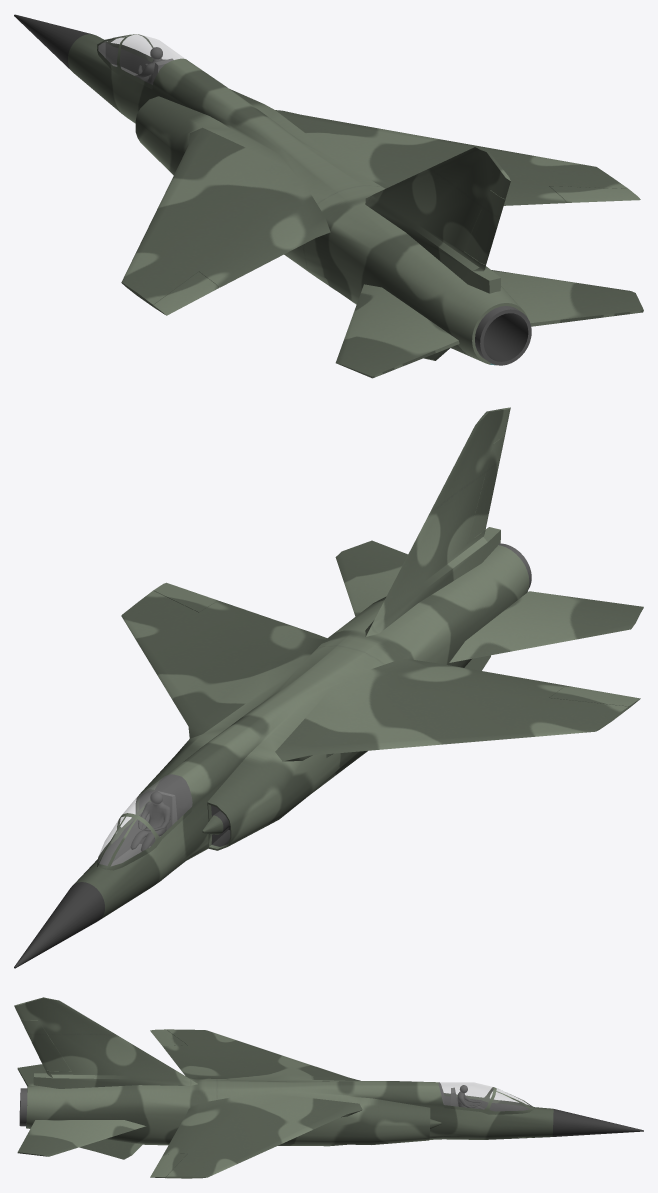
The model's file is MirageF1_joined.glb.
The picture shows the model from 3 angles, top to bottom: view 1: azimuth 30°, elevation 25°; view 2: azimuth 150°, elevation 25°; view 3: azimuth 270°, elevation 25°; orthographic projection. The views are drawn at different scales.
Parts seen in each view (by area): view 1: Fuselage_409.042mps_10900kg_25m2; view 2: Fuselage_409.042mps_10900kg_25m2; view 3: Fuselage_409.042mps_10900kg_25m2.
Part boxes in pixels (x1,y1,x2,y2): Fuselage_409.042mps_10900kg_25m2: [14, 14, 643, 378]; Fuselage_409.042mps_10900kg_25m2: [14, 407, 643, 968]; Fuselage_409.042mps_10900kg_25m2: [14, 997, 643, 1178].
Size of the model in its own units: 8.4 by 4.02 by 15.17.
5 materials, 1 textured.
